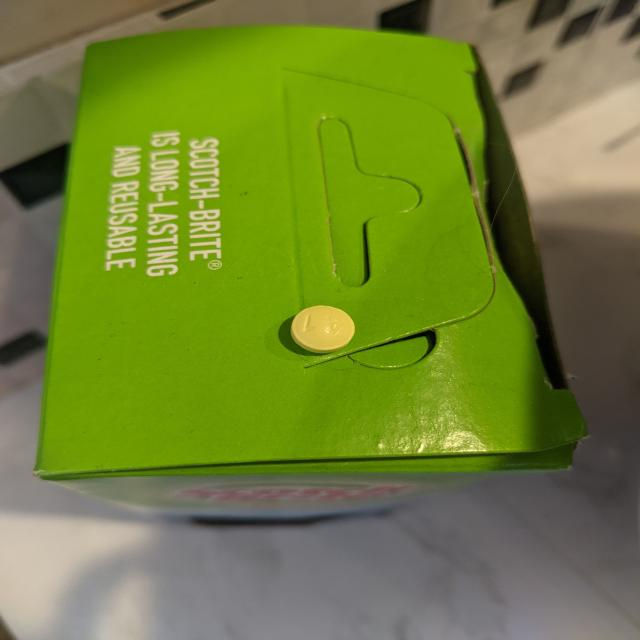non-organic waste: (290, 304, 356, 354)
